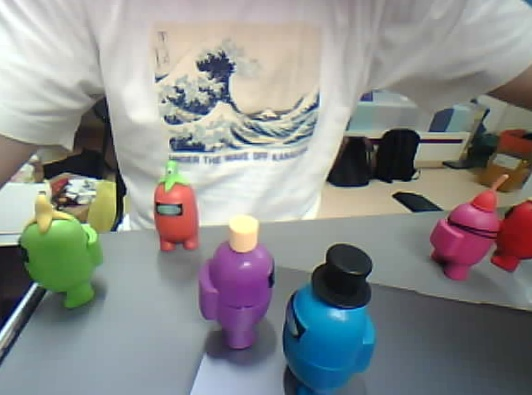alive: (281, 275, 377, 395), (195, 236, 277, 352), (16, 208, 106, 311), (427, 197, 501, 283), (151, 174, 202, 254)
